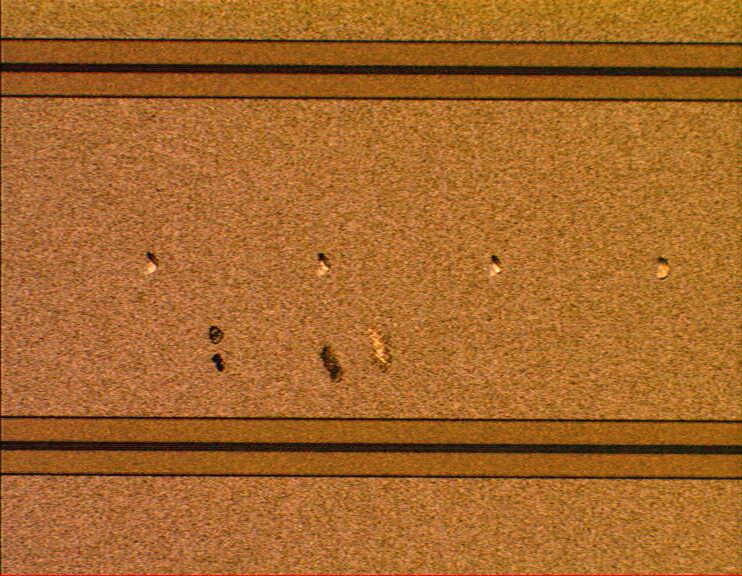SCRATCH: (196, 308, 405, 395)
